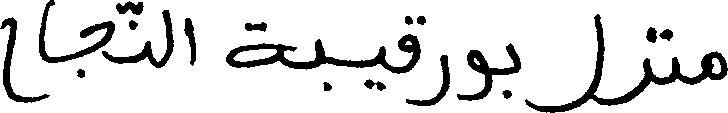X: (528, 9, 603, 112), (605, 24, 648, 110), (228, 17, 281, 72), (421, 11, 447, 110), (82, 16, 113, 82), (399, 11, 419, 110), (459, 45, 489, 105), (0, 12, 15, 105), (703, 46, 727, 84), (39, 0, 47, 105), (507, 38, 519, 103), (164, 5, 172, 70), (187, 13, 195, 70), (376, 41, 384, 95), (317, 34, 323, 88), (145, 36, 150, 67), (673, 52, 677, 86)
